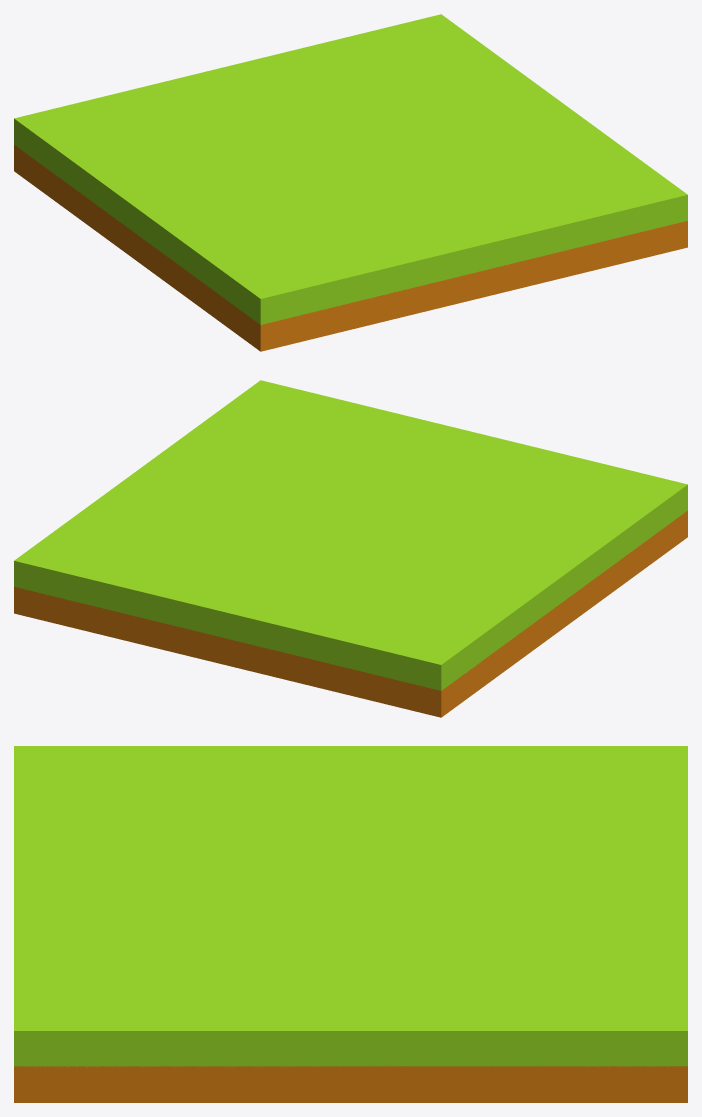
The model's file is tile.glb.
The picture shows the model from 3 angles, top to bottom: view 1: azimuth 30°, elevation 25°; view 2: azimuth 150°, elevation 25°; view 3: azimuth 270°, elevation 25°; orthographic projection. The views are drawn at different scales.
Parts seen in each view (by area): view 1: Cube.001, Cube; view 2: Cube.001, Cube; view 3: Cube.001, Cube.
Boxes of the visible parts, x1,y1,x2,y2 form: Cube.001: (14, 14, 687, 324); Cube: (14, 144, 687, 351); Cube.001: (14, 380, 687, 690); Cube: (14, 510, 687, 717); Cube.001: (14, 746, 687, 1067); Cube: (14, 1066, 687, 1102).
Bounding box in the file's own units: 10 × 1.18 × 10.
